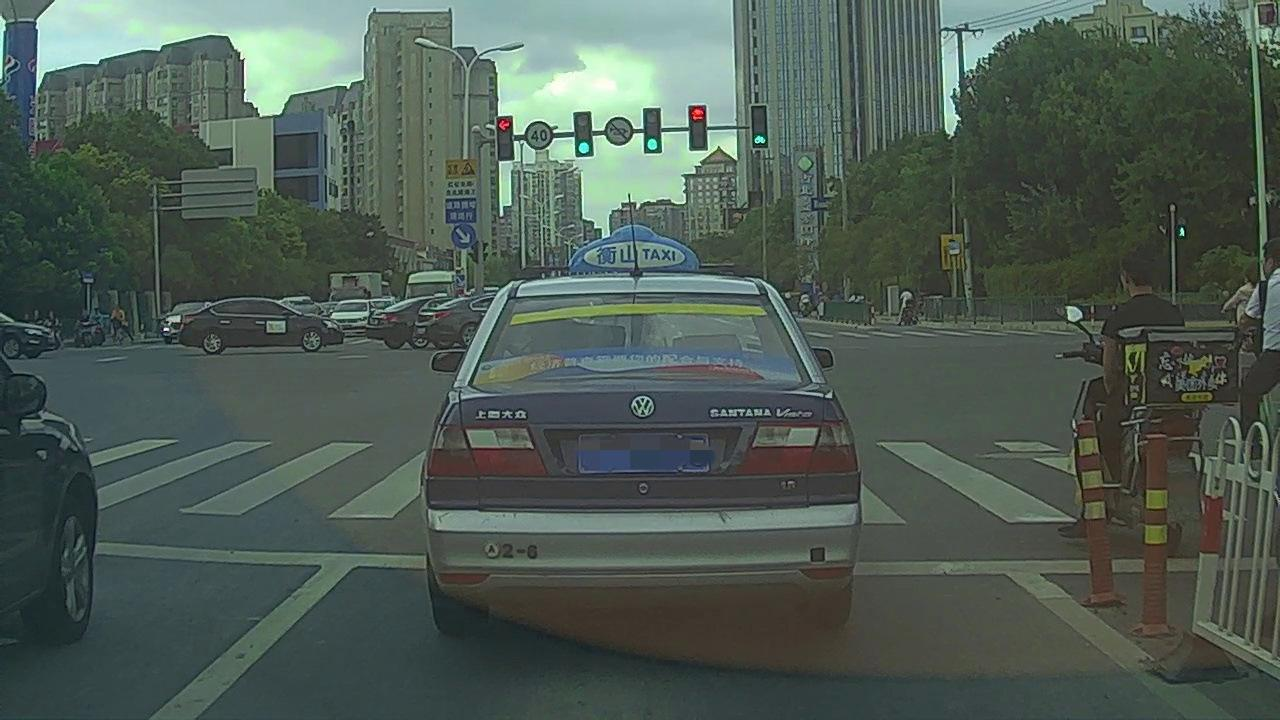traffic_light: (572, 111, 593, 157), (643, 108, 662, 154), (689, 104, 707, 149), (752, 104, 769, 149), (496, 116, 513, 160)
